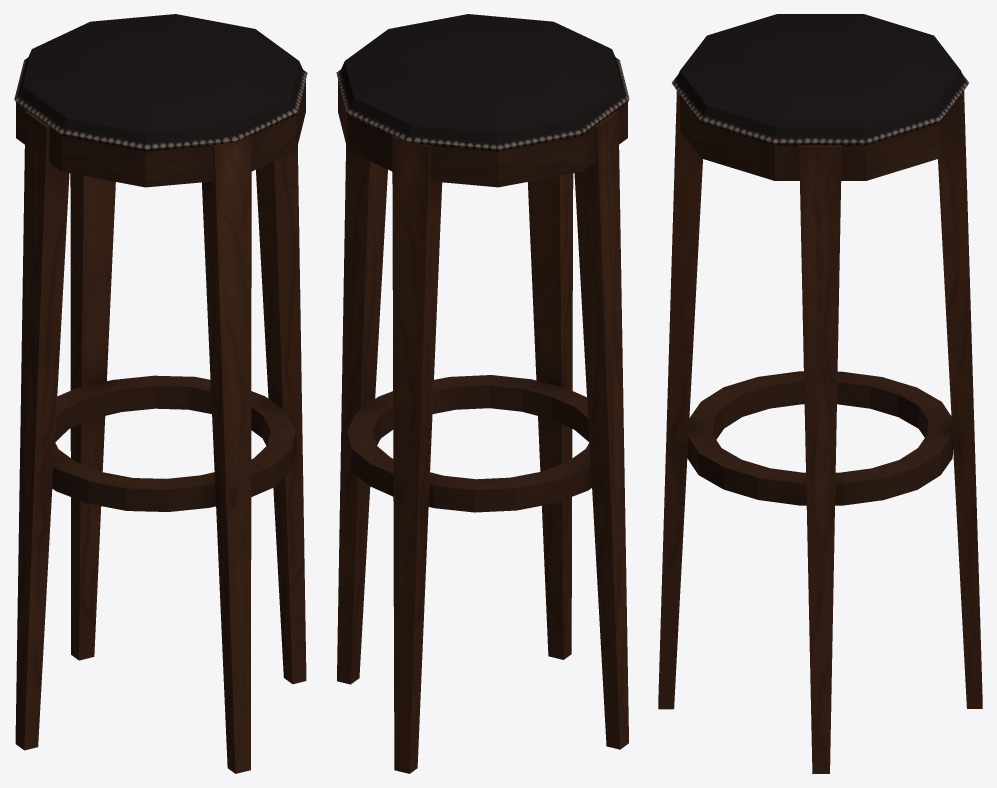
File: stool.glb
The picture shows the model from 3 angles, left to right: view 1: azimuth 30°, elevation 25°; view 2: azimuth 150°, elevation 25°; view 3: azimuth 270°, elevation 25°; orthographic projection.
Parts seen in each view (by area): view 1: BarSeats_Mesh; view 2: BarSeats_Mesh; view 3: BarSeats_Mesh.
Boxes of the visible parts, left/top/right/bottom form: BarSeats_Mesh: left=14, top=14, right=307, bottom=773; BarSeats_Mesh: left=336, top=14, right=629, bottom=773; BarSeats_Mesh: left=658, top=14, right=982, bottom=773.
Size of the model in its own units: 1.88 by 4.13 by 1.88.
Materials: 1 (1 with a texture image).
